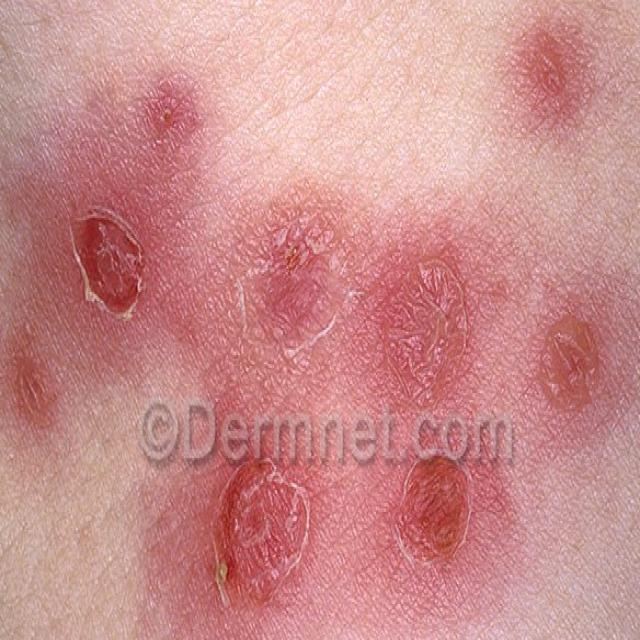Viral Infections: (0, 90, 640, 638)
